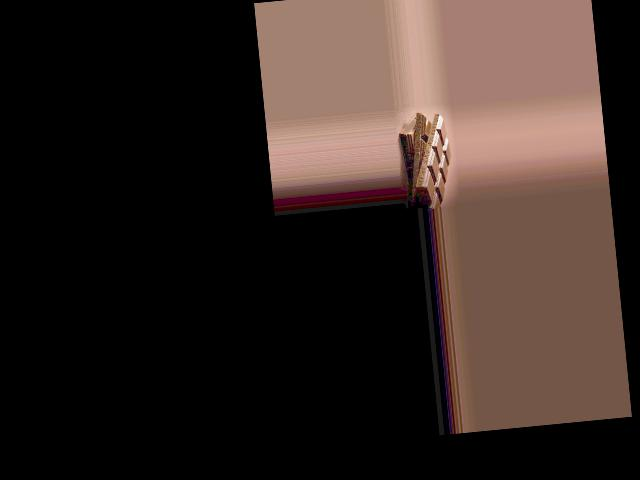chocolate: (403, 110, 454, 207)
